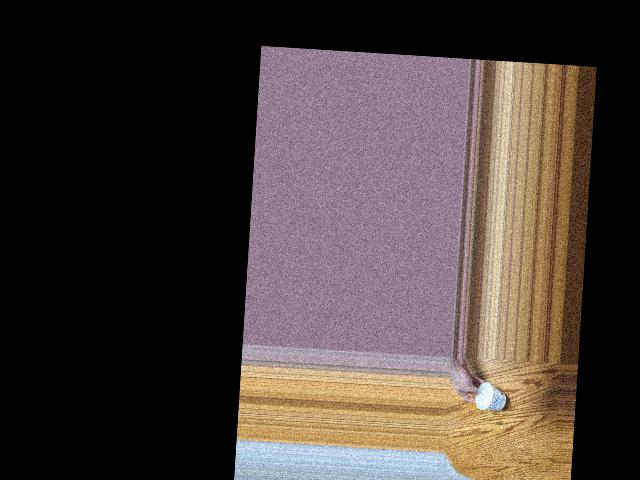cotage: (472, 376, 508, 411)
